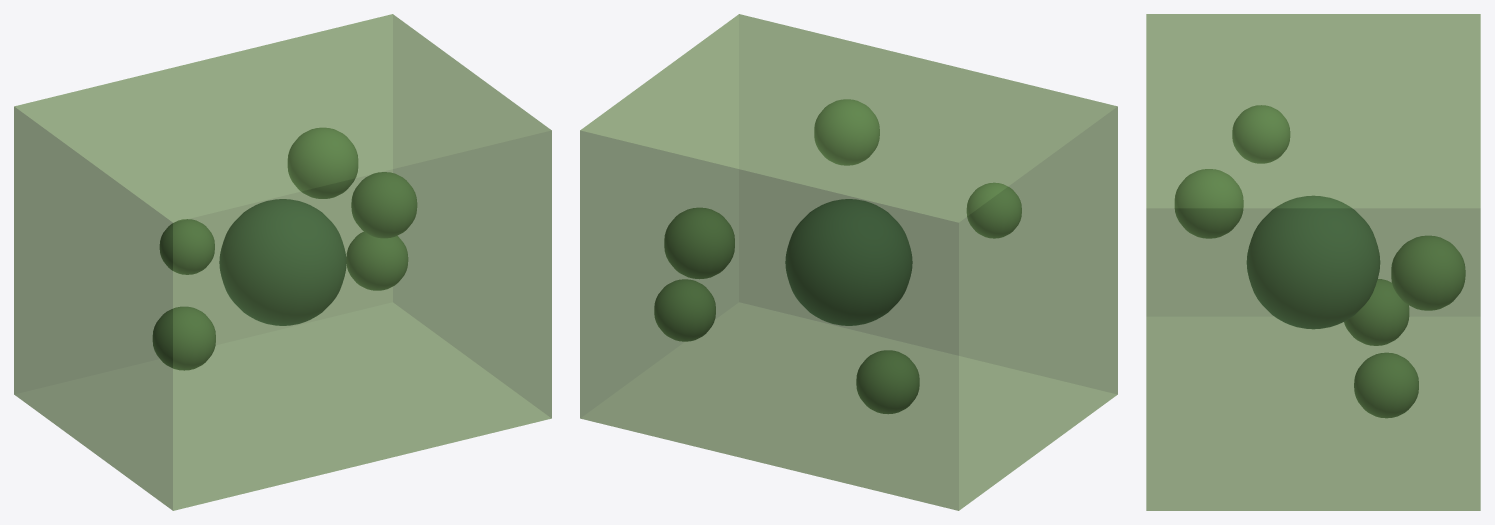
Rendered from plant.glb.
3 views of the same model, side by side, from view 1: azimuth 30°, elevation 25°; view 2: azimuth 150°, elevation 25°; view 3: azimuth 270°, elevation 25° (orthographic). The views are drawn at different scales.
Visible parts, largest first — view 1: CellWall, Nucleus, Chloroplast_4, Chloroplast_2, Chloroplast_3, Chloroplast_1, Chloroplast_0; view 2: CellWall, Nucleus, Chloroplast_4, Chloroplast_2, Chloroplast_3, Chloroplast_1, Chloroplast_0; view 3: CellWall, Nucleus, Chloroplast_4, Chloroplast_2, Chloroplast_1, Chloroplast_0, Chloroplast_3.
Part boxes in pixels (left/top/right/bottom): CellWall: left=14, top=14, right=551, bottom=510; Nucleus: left=219, top=199, right=346, bottom=325; Chloroplast_4: left=287, top=127, right=358, bottom=198; Chloroplast_2: left=351, top=172, right=417, bottom=238; Chloroplast_3: left=152, top=306, right=215, bottom=370; Chloroplast_1: left=346, top=232, right=408, bottom=290; Chloroplast_0: left=159, top=219, right=214, bottom=274; CellWall: left=580, top=14, right=1117, bottom=510; Nucleus: left=785, top=199, right=912, bottom=325; Chloroplast_4: left=664, top=207, right=734, bottom=278; Chloroplast_2: left=814, top=99, right=879, bottom=165; Chloroplast_3: left=856, top=350, right=919, bottom=413; Chloroplast_1: left=654, top=279, right=715, bottom=341; Chloroplast_0: left=966, top=182, right=1021, bottom=238; CellWall: left=1146, top=14, right=1480, bottom=510; Nucleus: left=1246, top=195, right=1380, bottom=329; Chloroplast_4: left=1391, top=235, right=1465, bottom=310; Chloroplast_2: left=1174, top=169, right=1243, bottom=238; Chloroplast_1: left=1354, top=352, right=1418, bottom=418; Chloroplast_0: left=1232, top=105, right=1290, bottom=163; Chloroplast_3: left=1344, top=279, right=1409, bottom=345.
Size of the model in its own units: 2.2 by 1.6 by 1.6.
